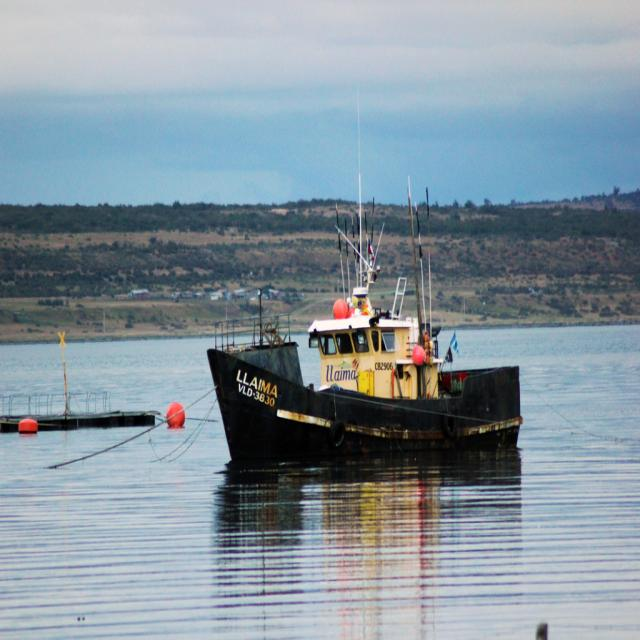Boat: (200, 170, 522, 466)
